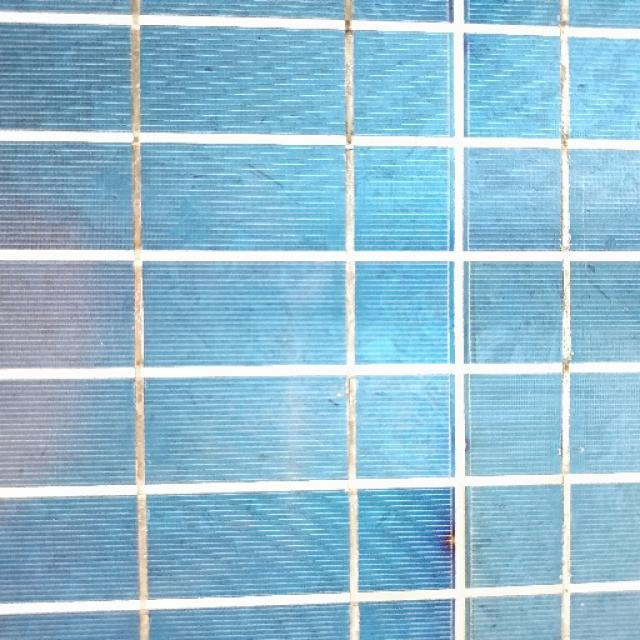Clean: (0, 32, 640, 640)
